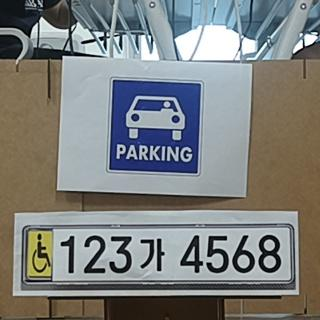disabled: (28, 229, 52, 276)
plate: (22, 225, 296, 290)
